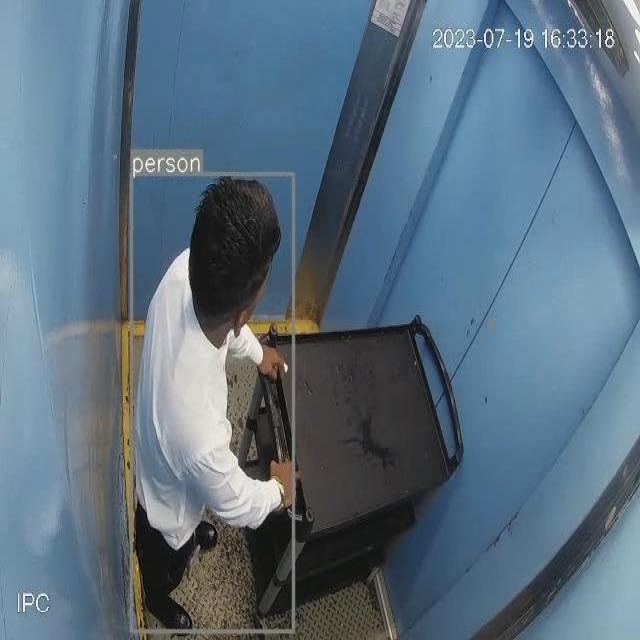person: (131, 175, 294, 632)
